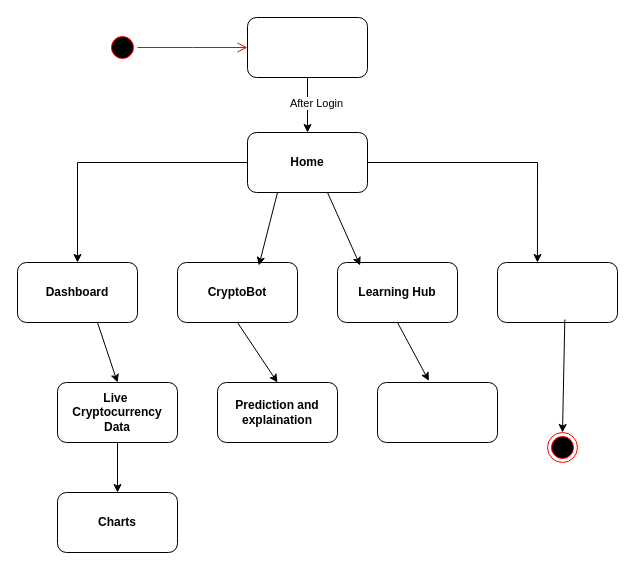
Image size: 635x570. Some labels were removed from this diagram. Each missing label, with the centre of its shape:
"Athenticated" goes at pixel 307 47.
"Download books and video links" goes at pixel 437 412.
"Logout" goes at pixel 557 292.
